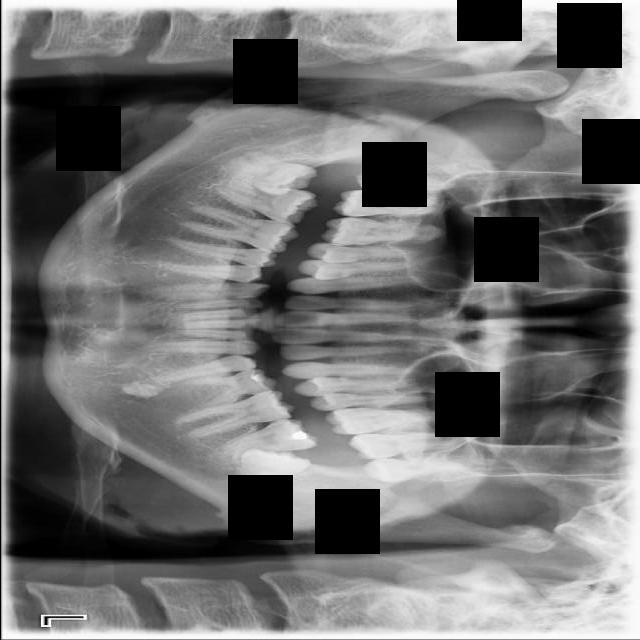3M ESPE Implant: (353, 163, 455, 194)
52: (264, 406, 322, 463), (233, 368, 276, 397)
73: (58, 610, 62, 614)
BioHorizons Implant: (348, 431, 460, 460)
BioLife Implant: (363, 458, 470, 483)
Biomet 3i Implant: (233, 446, 313, 501)
Blue Sky Bio Implant: (209, 414, 320, 465)
Caries: (331, 186, 452, 218)
Implant: (206, 175, 319, 228)
Keystone Dental Implant: (219, 140, 319, 206)
